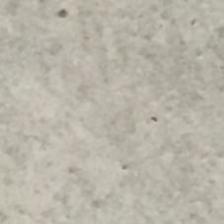Non_Crack: (7, 15, 200, 224)
